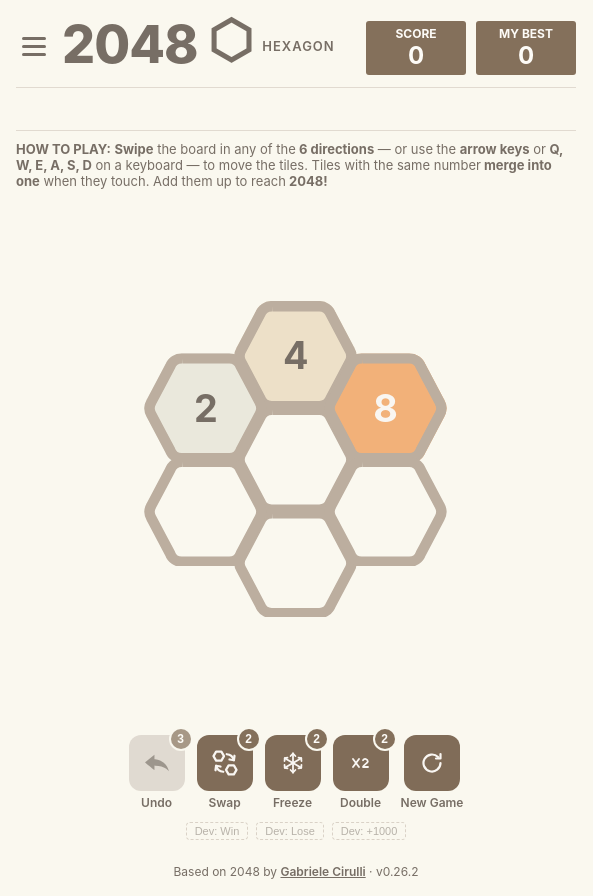
Test: <App/> freeze power-up › consumes a charge on the next move and spawns no new tile
This screenshot has width=593, height=896.
expect the number of pictures with test id "tile" is 3: met, box [143,353,269,462]; [233,301,359,410]; [323,353,449,462]
Click the button with test id "power-up-freeze": x=292, y=763 [264,735,320,791]
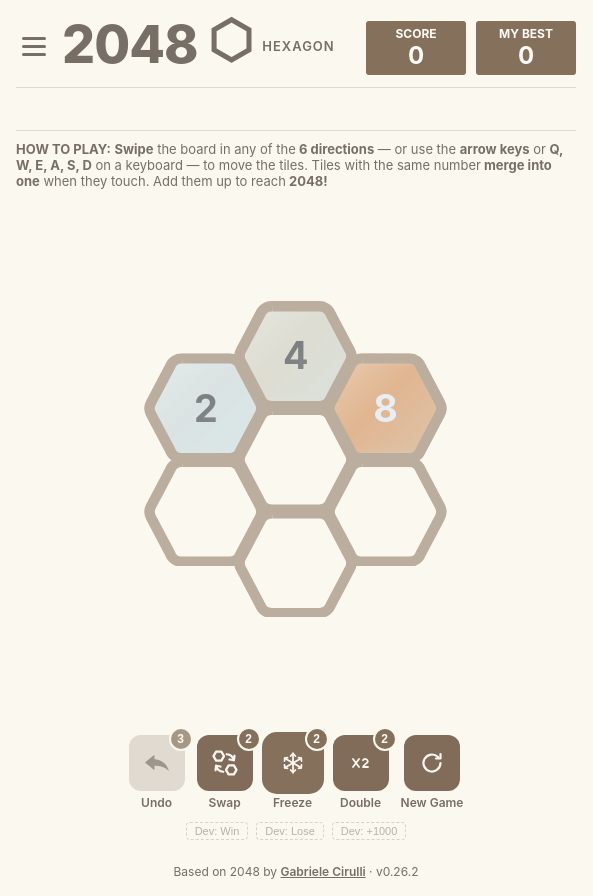
Press q
Press w
Press e
Press a
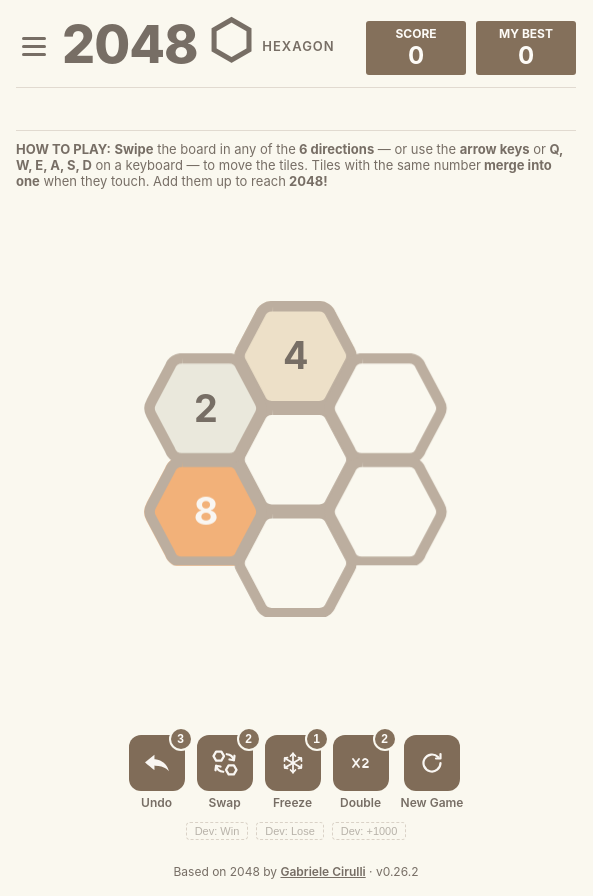
expect the text with test id "power-up-freeze-charges" reads "1": met, box [313,732,320,746]
